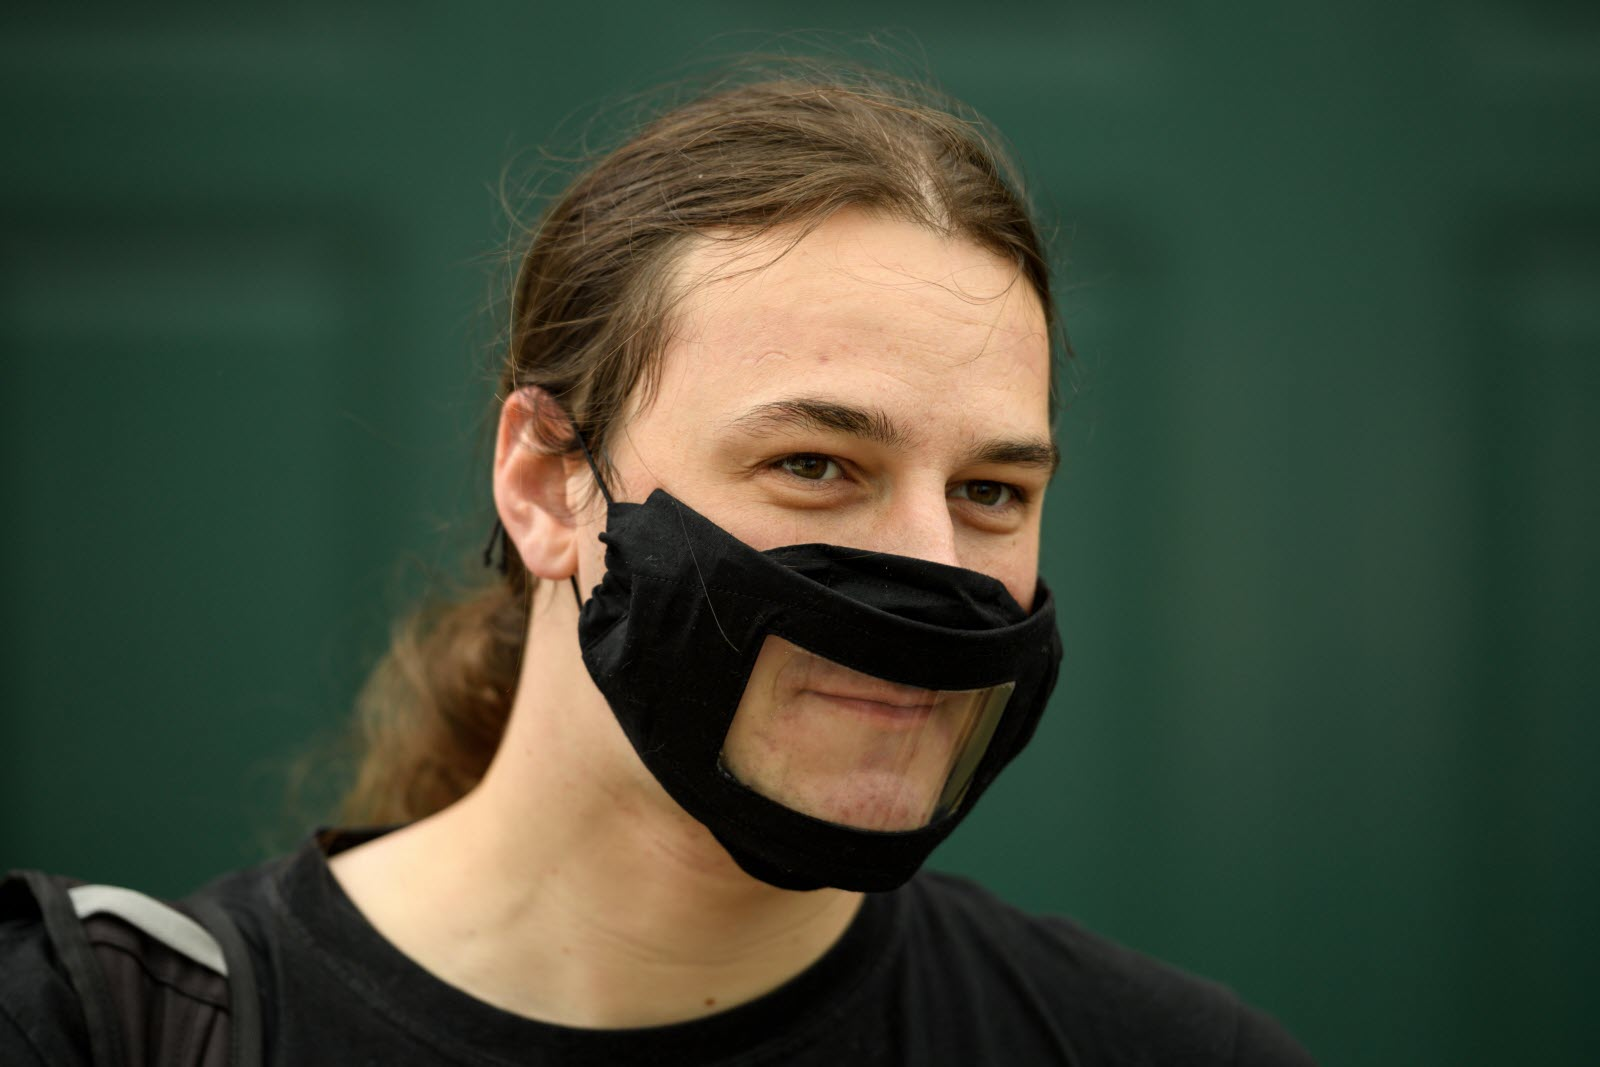with_mask: (534, 195, 1075, 898)
